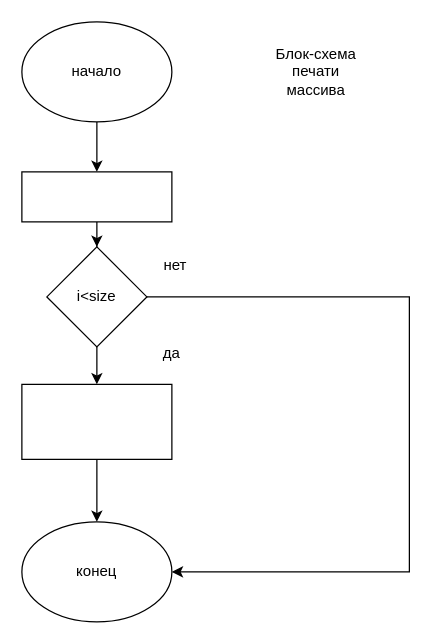
The diagram is 441 pixels wide and 644 high, and some of its shapes have lost their labels. The centre of each missing label's shape, as x and y in pixels:
"array[size] i = 0;" belongs at pixel 96 196.
"печать элемента массива" belongs at pixel 96 421.
